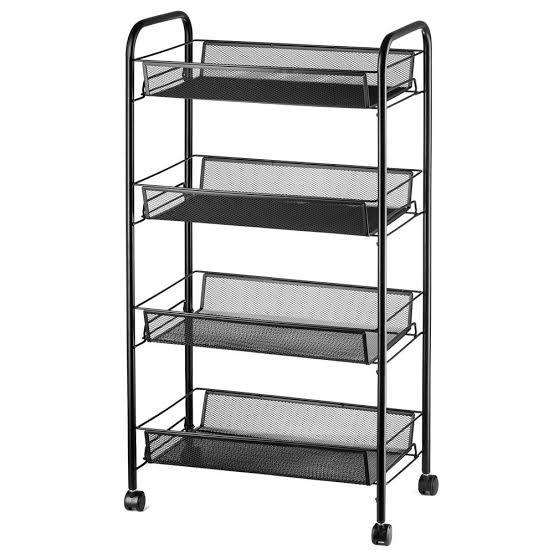Carts: (125, 10, 440, 548)
